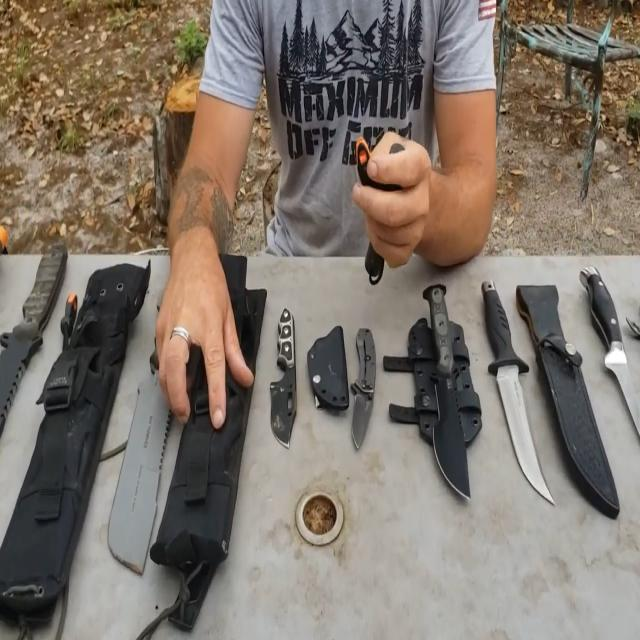knife: (96, 263, 210, 586), (468, 263, 556, 500), (0, 243, 80, 445), (413, 274, 478, 502), (586, 264, 640, 429), (347, 313, 386, 456), (273, 294, 300, 466)
